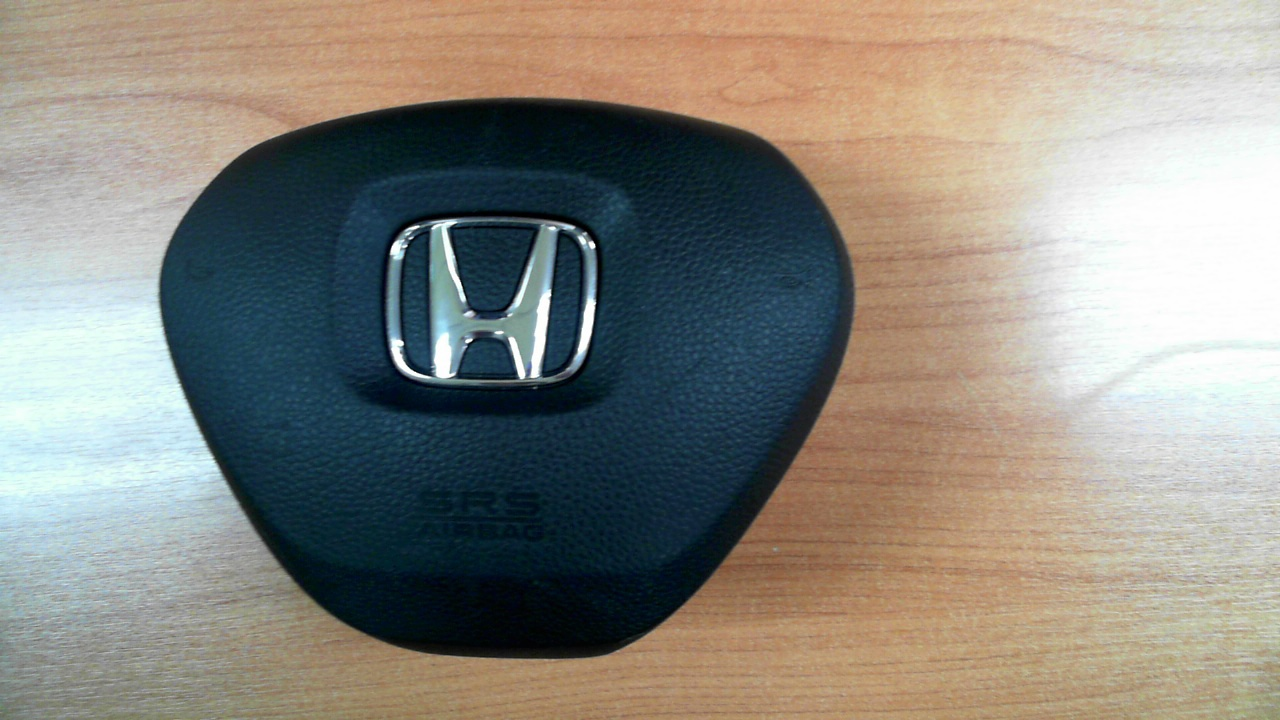Airbag: (158, 98, 856, 659)
Honda: (385, 216, 599, 387)
